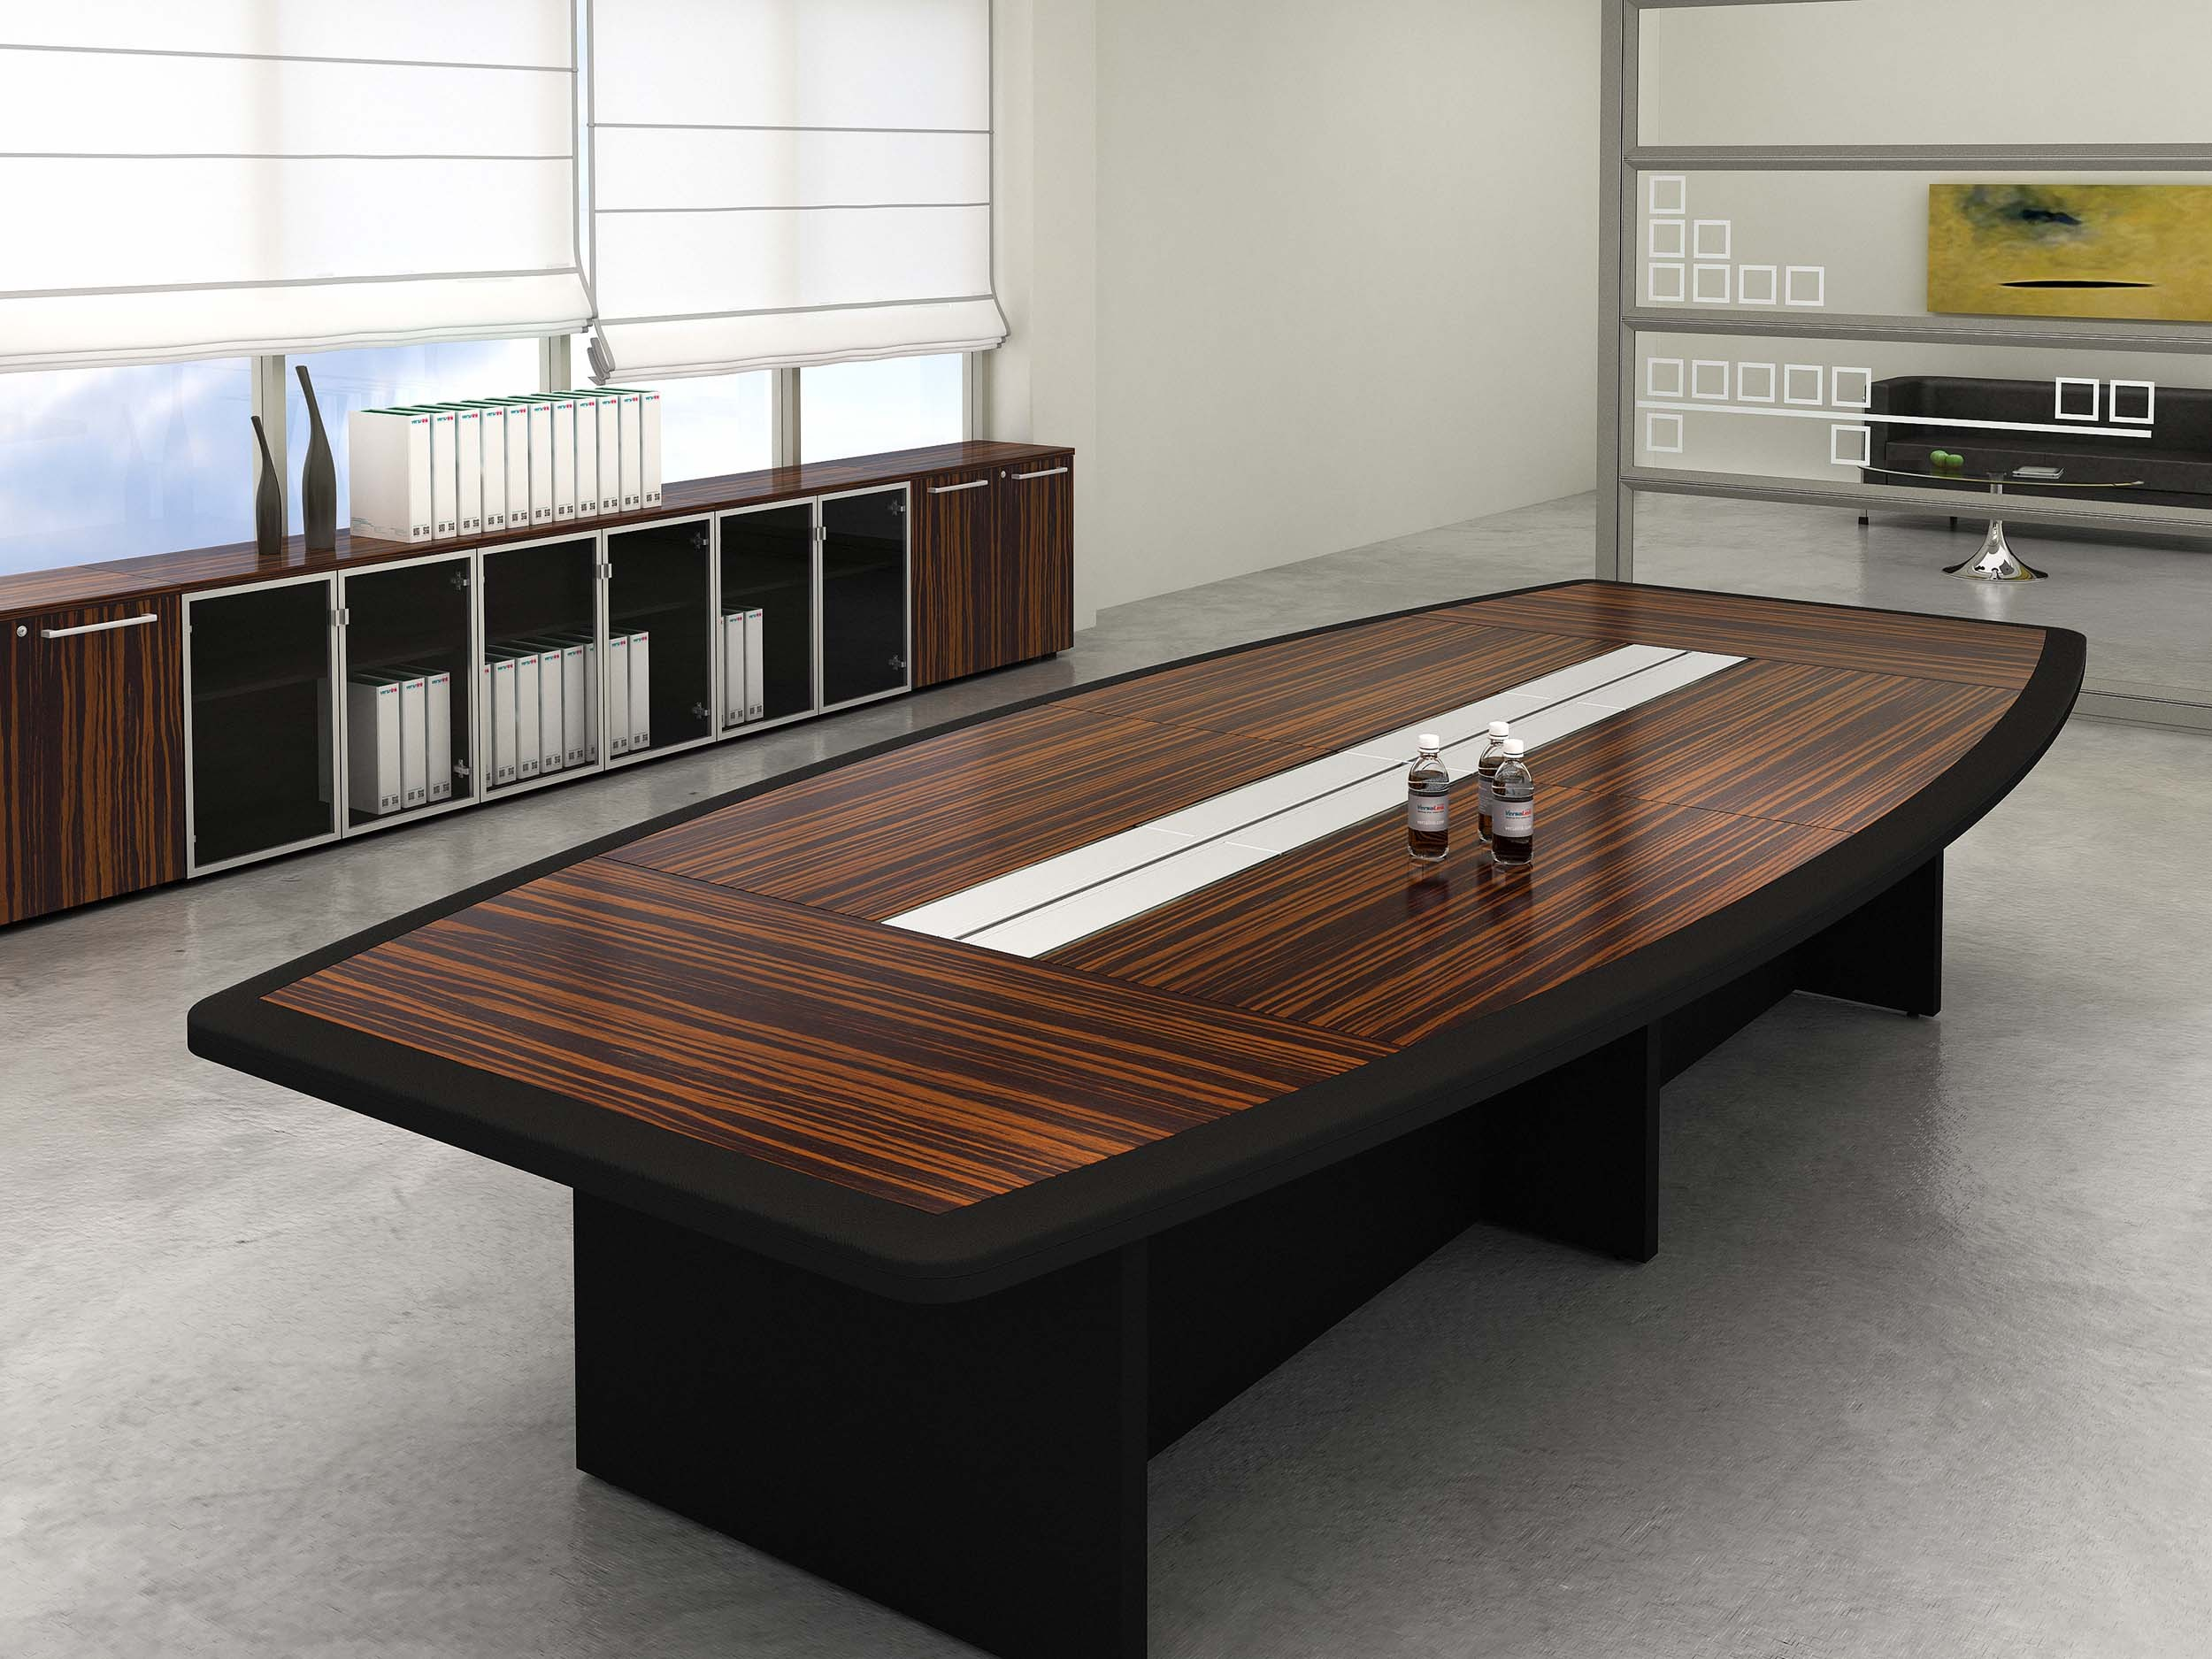conference_table: (179, 572, 2089, 1658)
